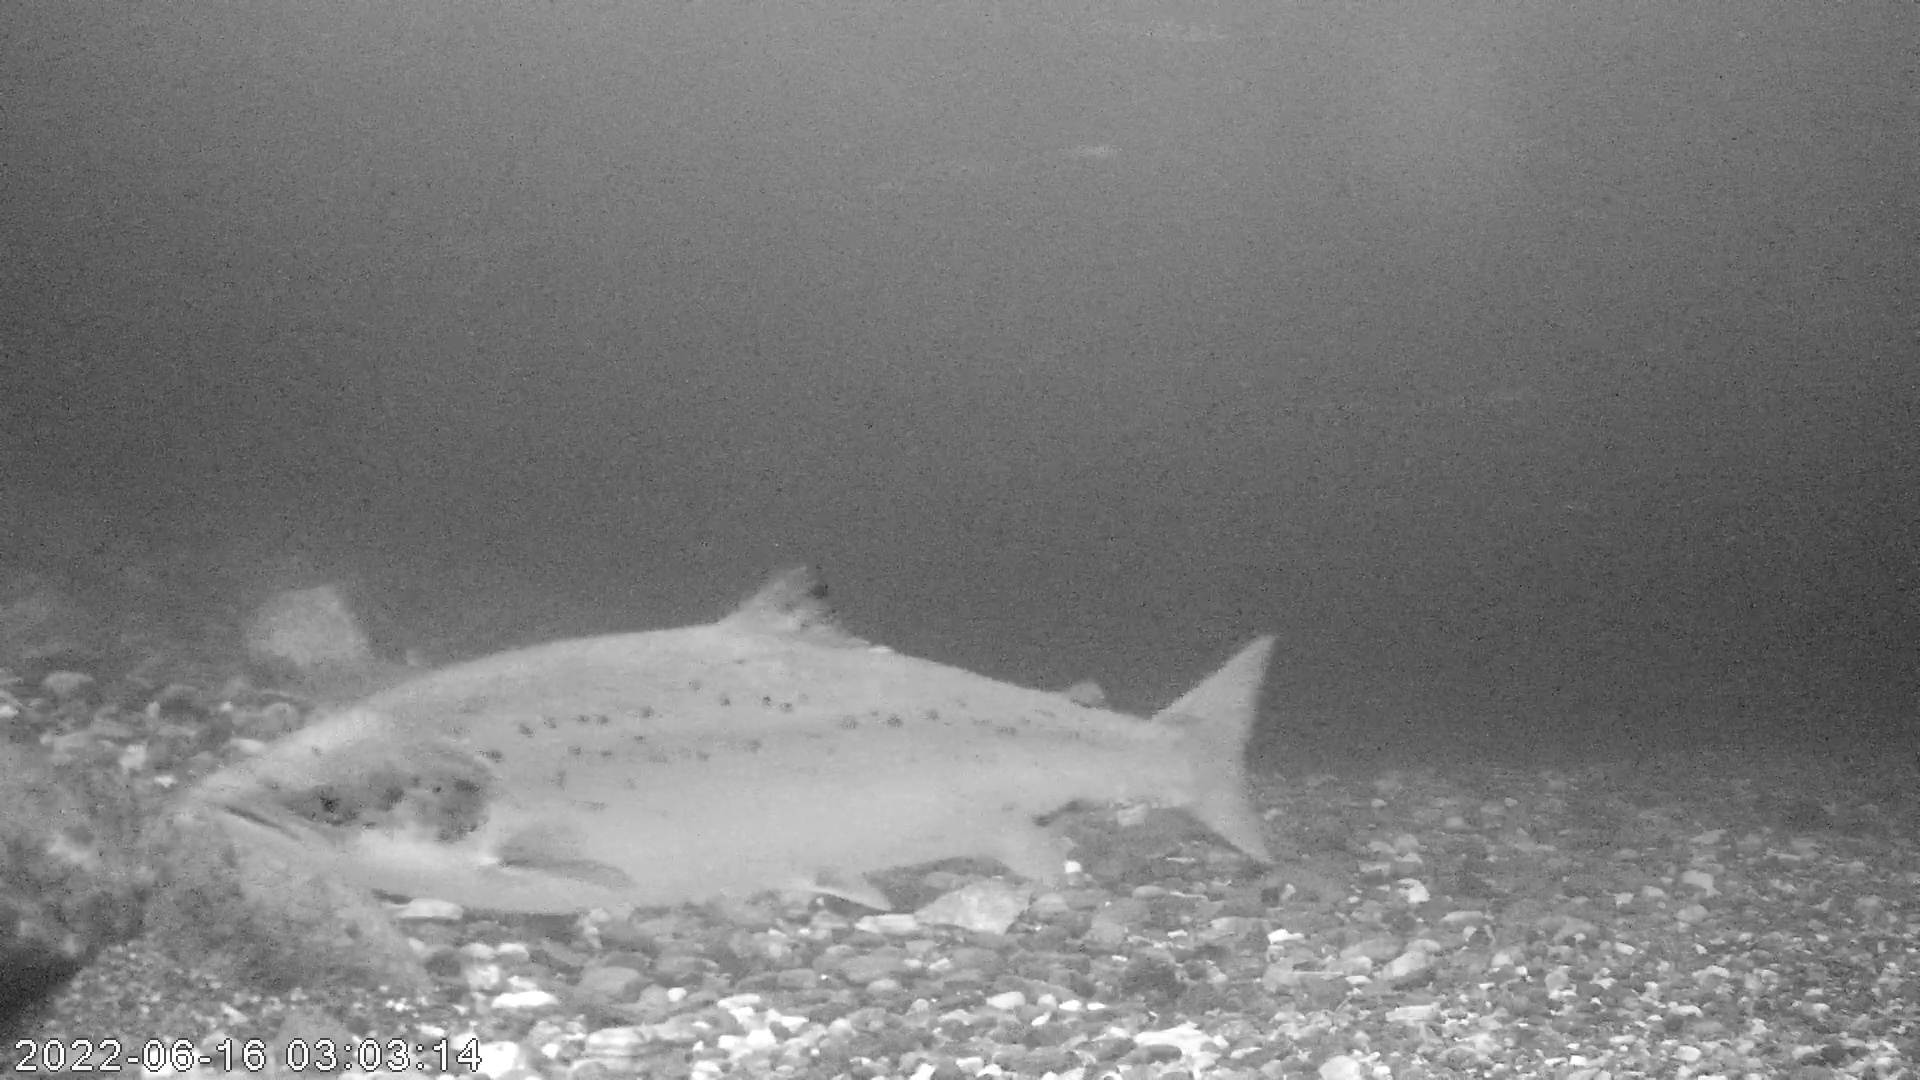salmon: (191, 560, 1280, 920)
